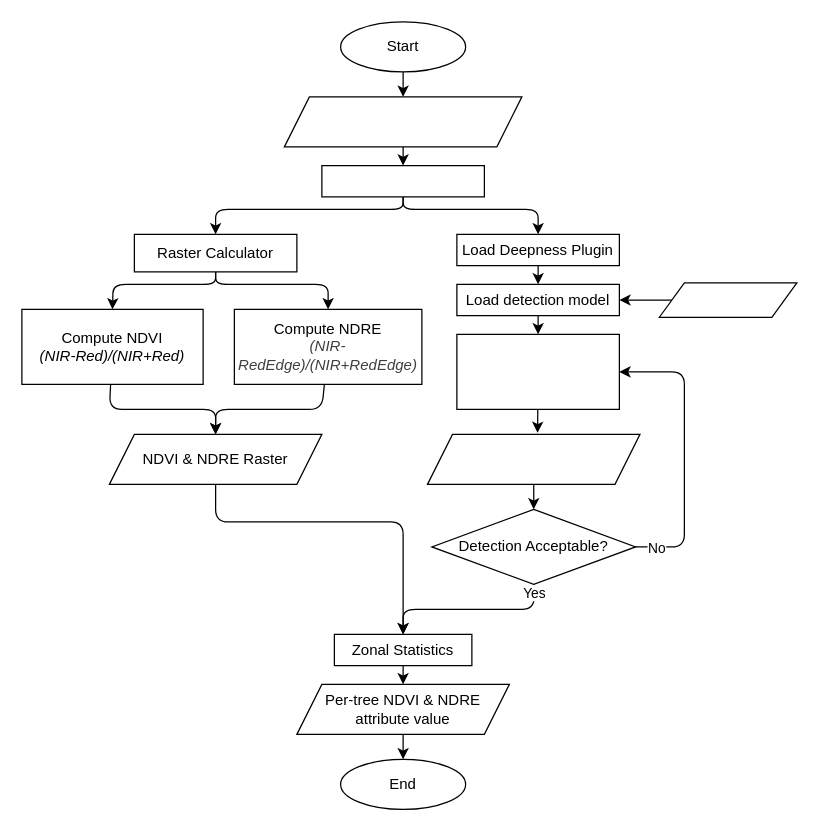
This 819x831 diagram has some shape labels left out. The box of each missing label's shape, as (x1, y1, x2, y2) in pixels:
Bounding box polygon: (426, 433, 640, 484)
Configure parameters (Confidence, IoU threshold): (456, 333, 619, 409)
Import to QGIS: (321, 164, 484, 197)
Multispectral Orthomosaic (NIR, RedEdge, RGB): (283, 96, 522, 147)
Training model: (658, 282, 797, 317)
